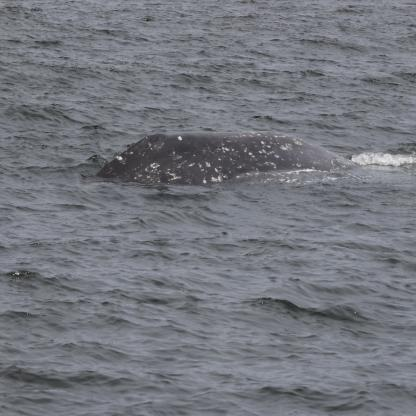dolphin-whale: (92, 124, 360, 192)
